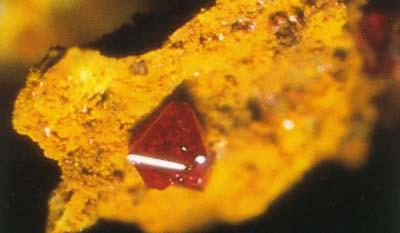cuprite: (129, 87, 216, 189)
